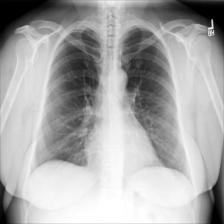normal: (29, 21, 189, 180)
